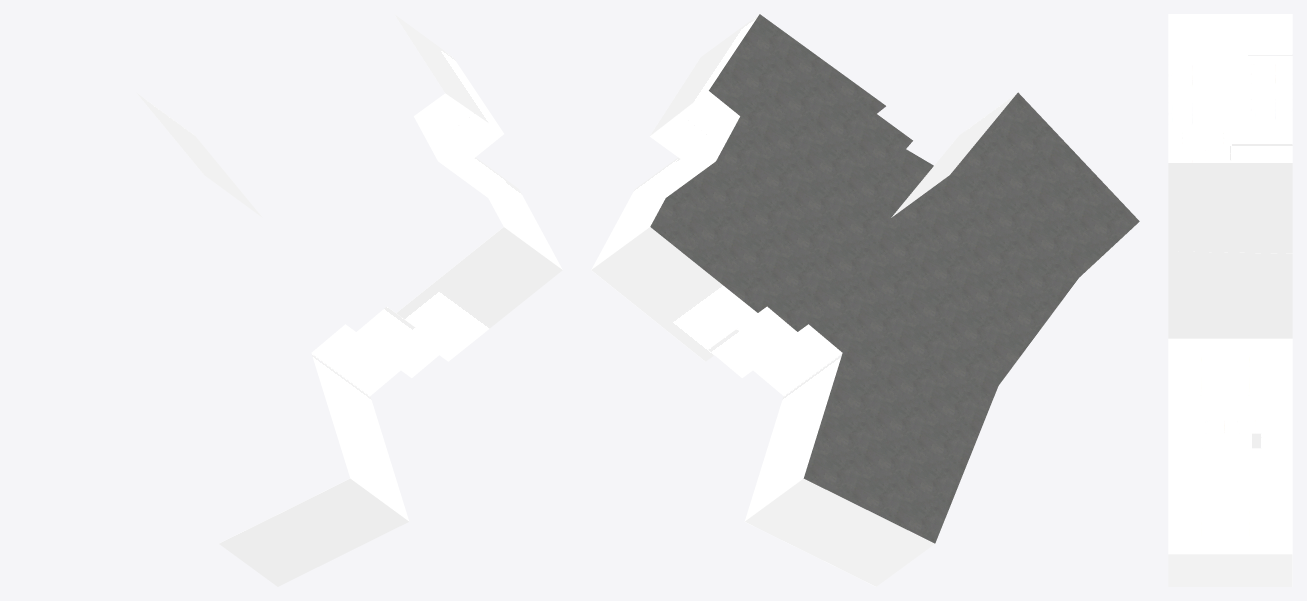
3 renders of one model, left to right at view 1: azimuth 30°, elevation 25°; view 2: azimuth 150°, elevation 25°; view 3: azimuth 270°, elevation 25°, orthographic. The views are drawn at different scales.
Visible parts, largest first — view 1: BuildingMaster_2008193455374462020600000000_0; view 2: BuildingMaster_2008193455374462020600000000_1, BuildingMaster_2008193455374462020600000000_0; view 3: BuildingMaster_2008193455374462020600000000_0.
Boxes of the visible parts, left/top/right/bottom form: BuildingMaster_2008193455374462020600000000_0: left=136, top=14, right=562, bottom=586; BuildingMaster_2008193455374462020600000000_1: left=650, top=14, right=1139, bottom=543; BuildingMaster_2008193455374462020600000000_0: left=591, top=14, right=1017, bottom=586; BuildingMaster_2008193455374462020600000000_0: left=1168, top=14, right=1292, bottom=586.
Size of the model in its own units: 50.25 by 47.75 by 10.5.
